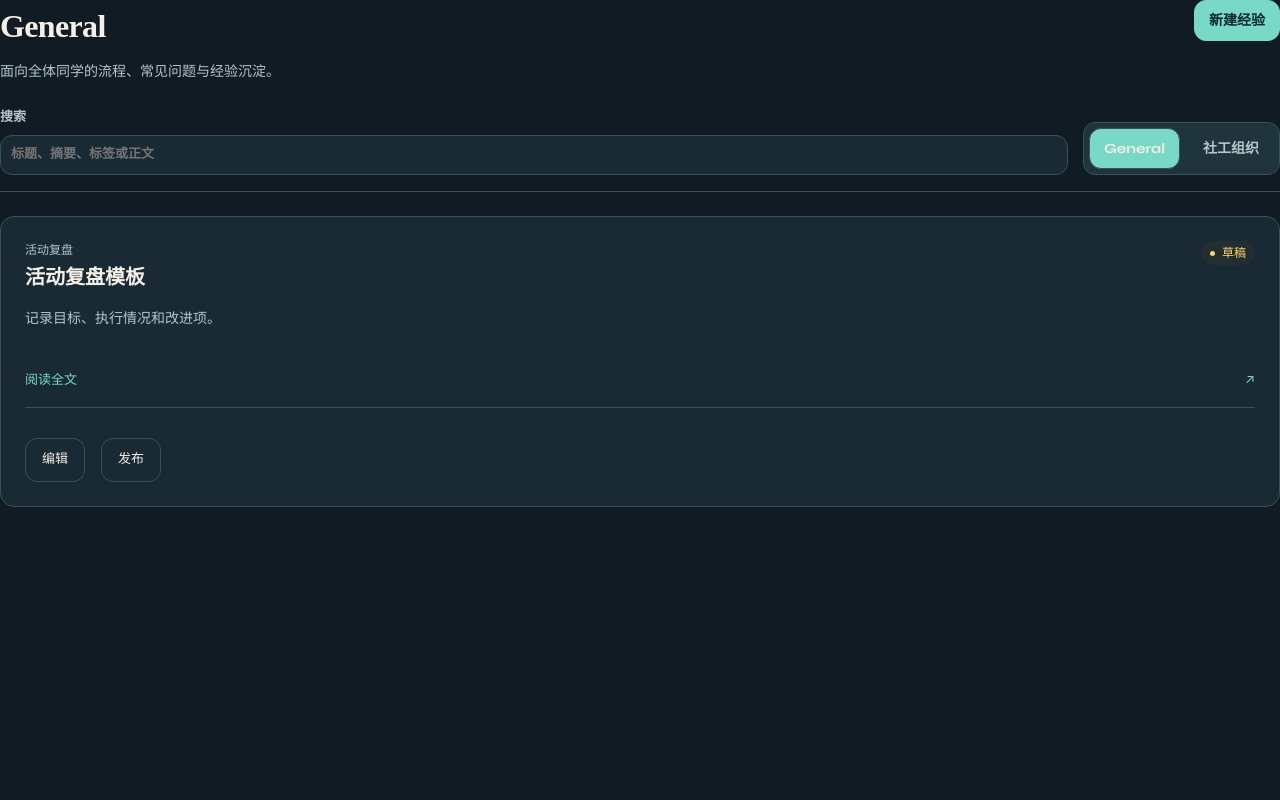
Test: KnowledgePage › validates and creates a draft, then publishes it and refreshes the list
This screenshot has width=1280, height=800.
Expected: the link "活动复盘模板" is shown, x1=25 y1=266 x2=145 y2=288
Click the button "新建经验" at [1237, 21], box x1=1194 y1=0 x2=1279 y2=41
(page scrolled)
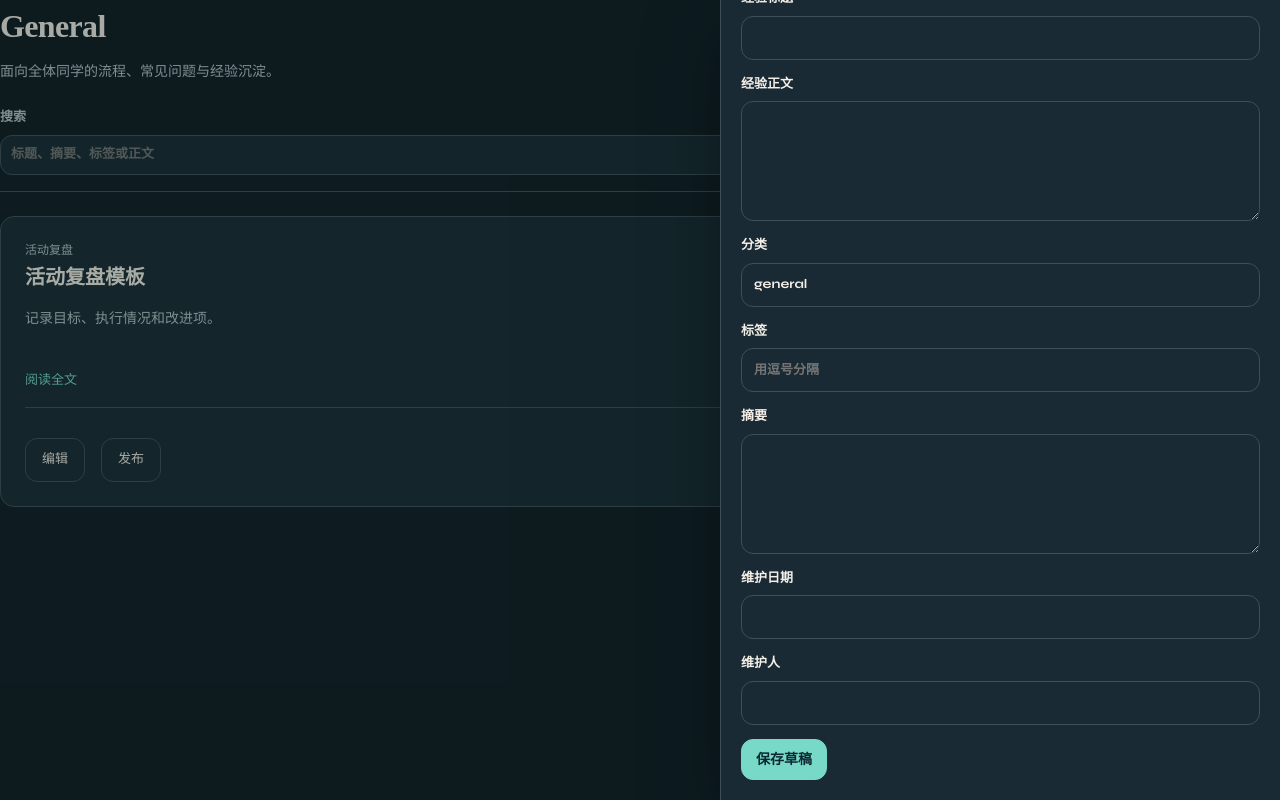
Click the button "保存草稿" at [784, 759], box x1=741 y1=738 x2=827 y2=780
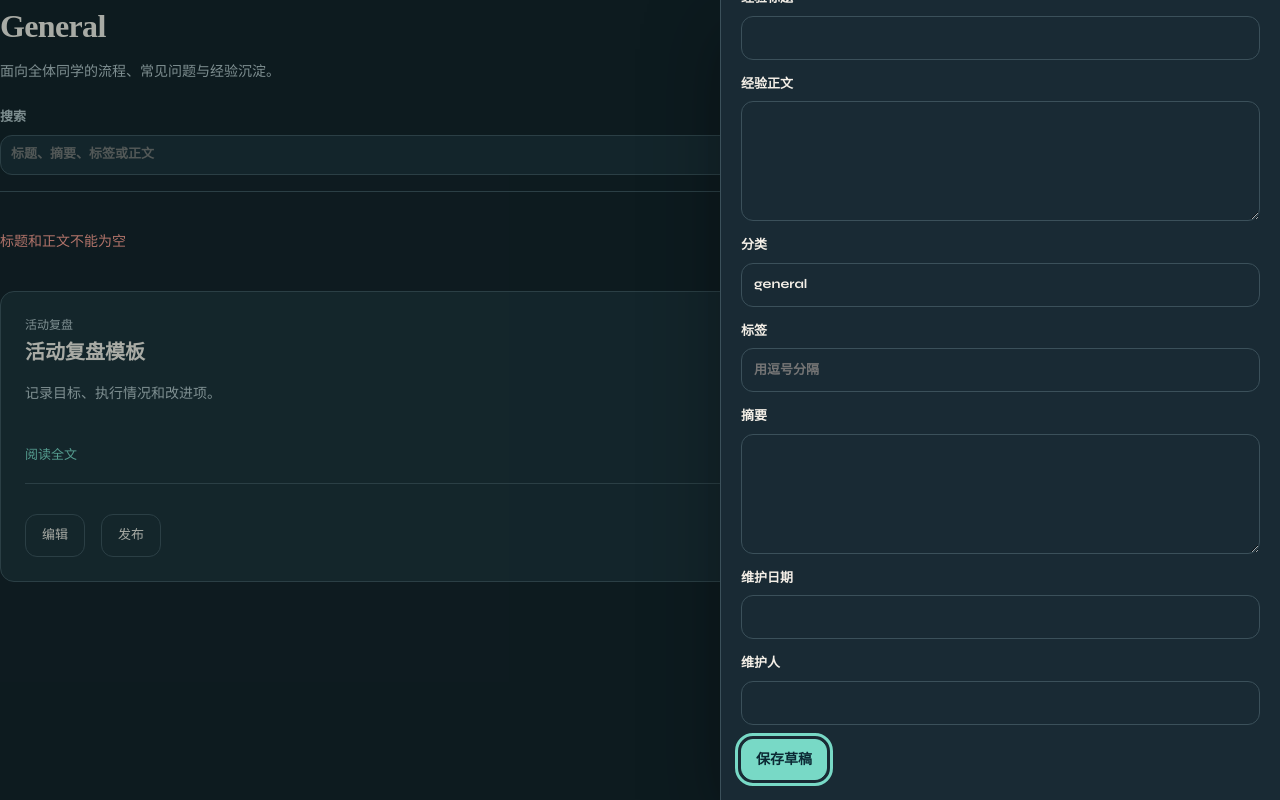
Now the text "标题和正文不能为空" is shown, box x1=0 y1=233 x2=126 y2=250
Type "部门交接清单" into the field labelled "经验标题" at [1000, 38], box x1=741 y1=16 x2=1260 y2=60
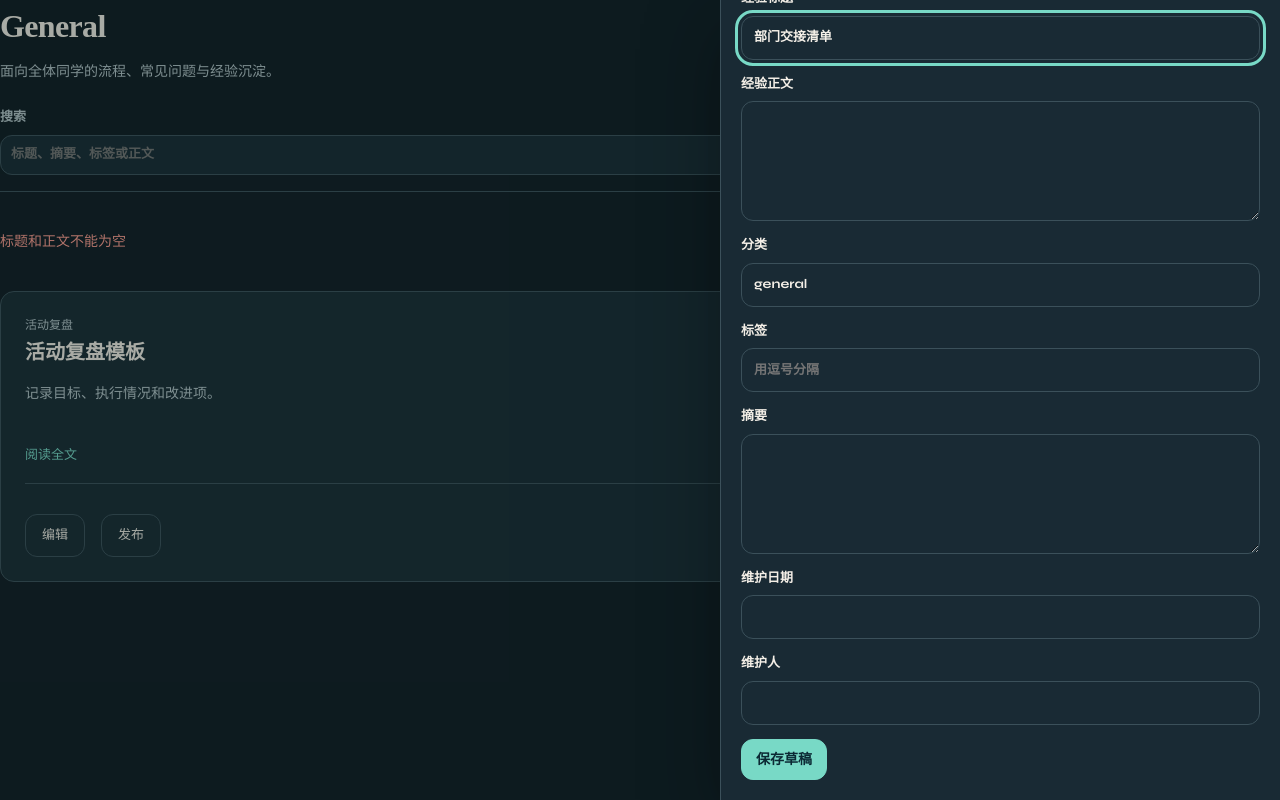
Type "列出账号、联系人和周期任务。" into the text box labelled "经验正文" at [1000, 161], box x1=741 y1=101 x2=1260 y2=221
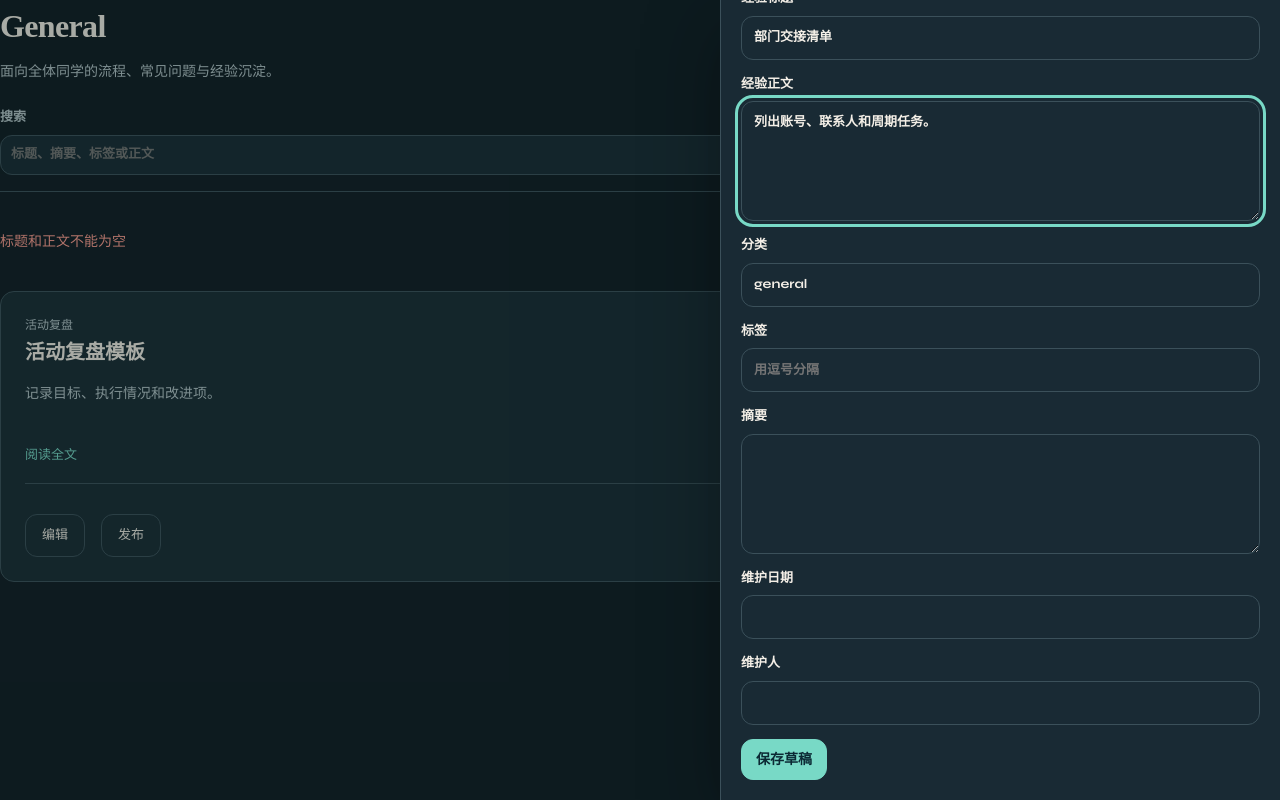
Click the button "保存草稿" at [784, 759], box x1=741 y1=738 x2=827 y2=780
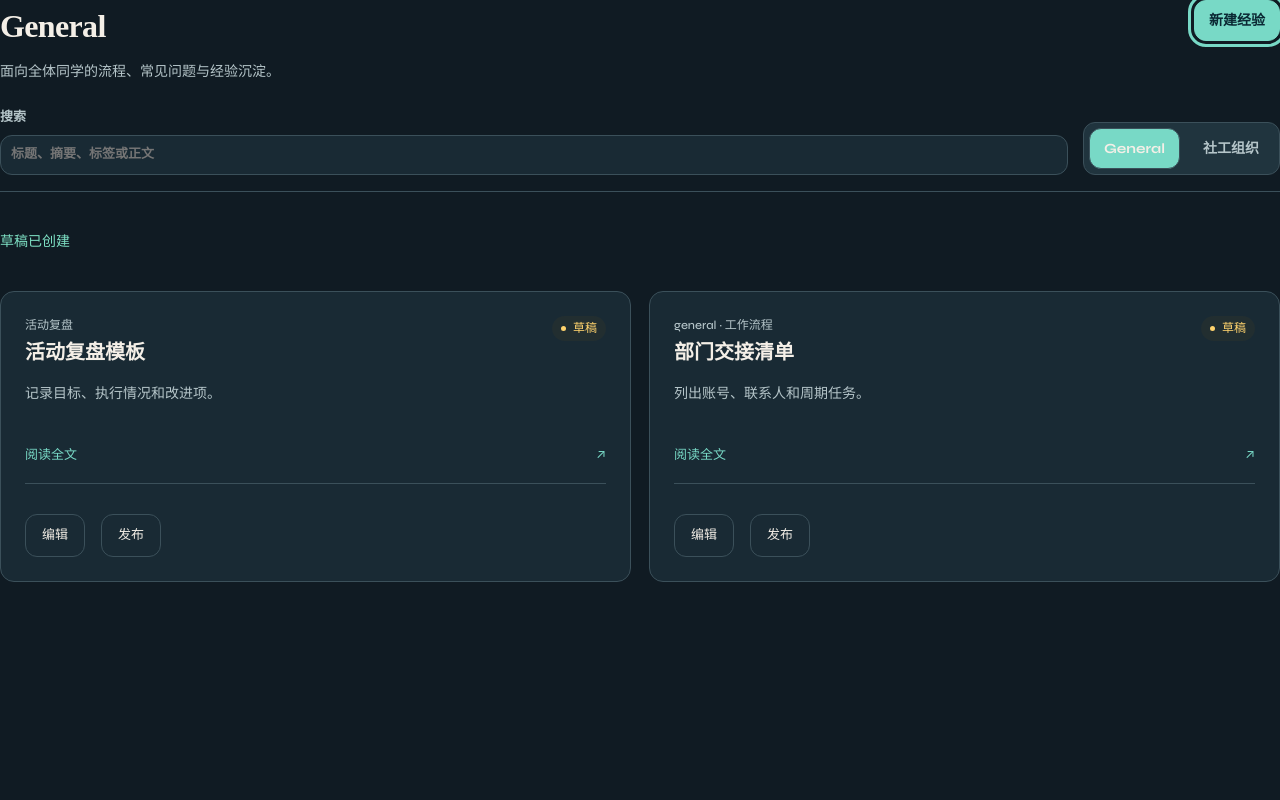
Now the message reads "草稿已创建", box x1=0 y1=233 x2=70 y2=250
Now the link "部门交接清单" is shown, box x1=674 y1=341 x2=794 y2=363
Click the button with aria-label "发布 活动复盘模板" at [131, 535], box x1=101 y1=514 x2=161 y2=557
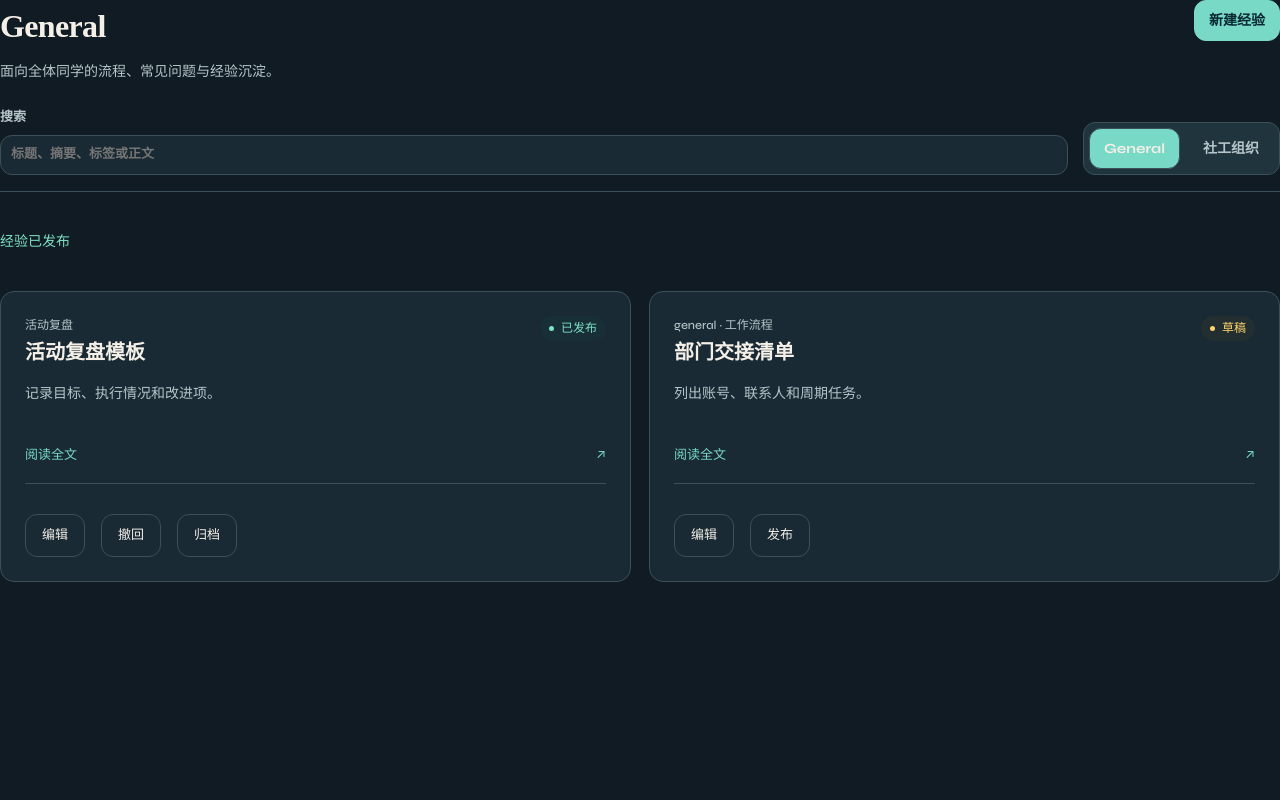
Now the message reads "经验已发布", box x1=0 y1=233 x2=70 y2=250
